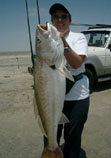fish: (24, 19, 73, 157)
